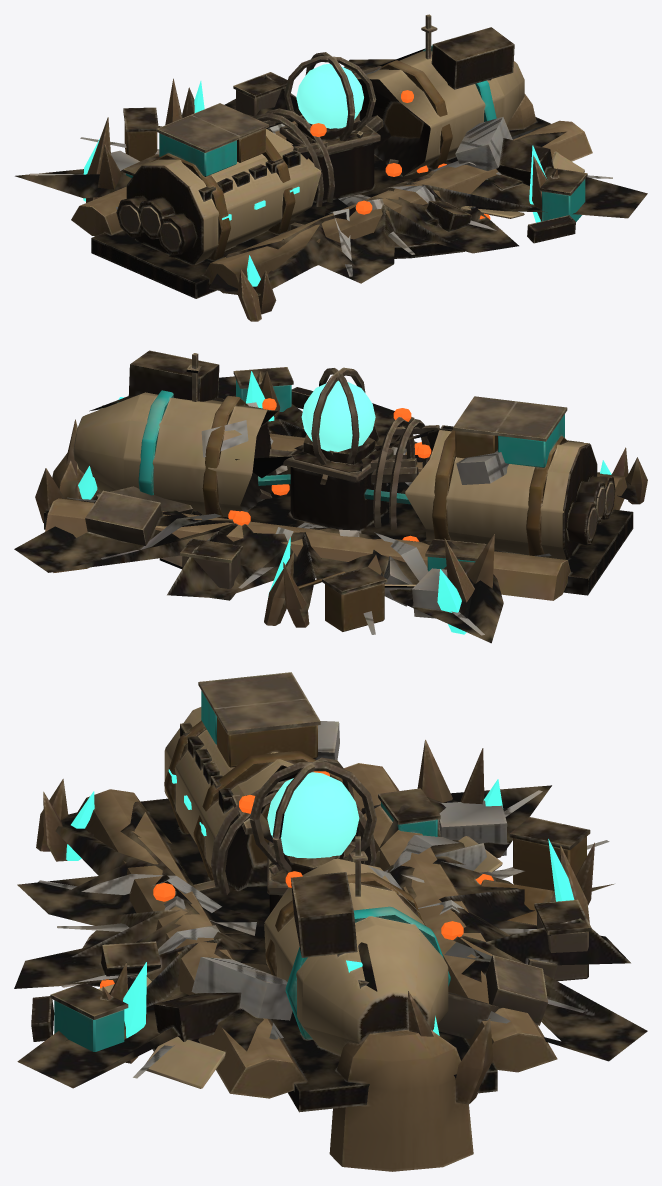
Rendered from crash-site-nahara.glb.
3 renders of one model, top to bottom at view 1: azimuth 30°, elevation 25°; view 2: azimuth 150°, elevation 25°; view 3: azimuth 270°, elevation 25°, orthographic. The views are drawn at different scales.
Visible parts, largest first — view 1: site_crash_site_nahara_body, site_crash_site_nahara_ruin, site_crash_site_nahara_core; view 2: site_crash_site_nahara_body, site_crash_site_nahara_ruin, site_crash_site_nahara_core; view 3: site_crash_site_nahara_body, site_crash_site_nahara_ruin, site_crash_site_nahara_core.
Part boxes in pixels (box(x1,y1,x2,y2)): site_crash_site_nahara_body: box(71, 14, 592, 321); site_crash_site_nahara_ruin: box(15, 27, 647, 296); site_crash_site_nahara_core: box(284, 52, 376, 140); site_crash_site_nahara_body: box(35, 353, 647, 634); site_crash_site_nahara_ruin: box(14, 350, 638, 643); site_crash_site_nahara_core: box(301, 367, 375, 465); site_crash_site_nahara_body: box(36, 672, 594, 1171); site_crash_site_nahara_ruin: box(14, 721, 647, 1088); site_crash_site_nahara_core: box(250, 757, 376, 874).
Size of the model in its own units: 5.72 by 2.23 by 4.95.
5 materials, 1 textured.
